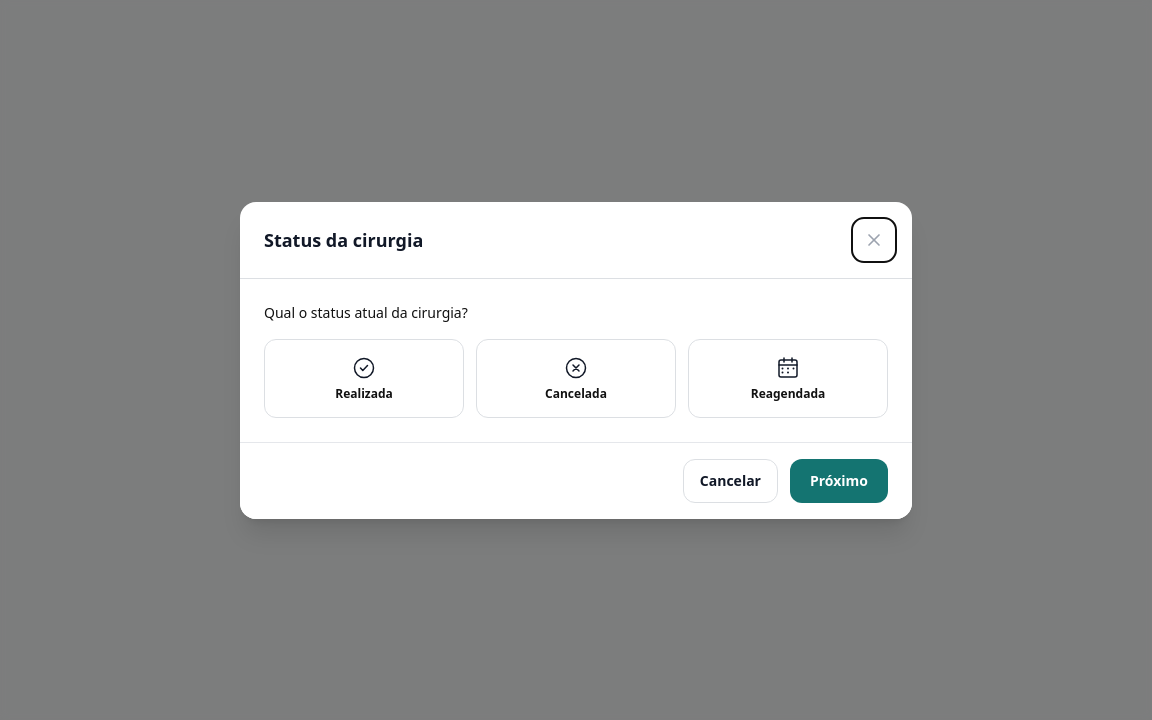
Scenario: SurgeryStatusModal › exige a nova data para reagendar
Click the button "Reagendada": [788, 378] box [688,338,888,418]
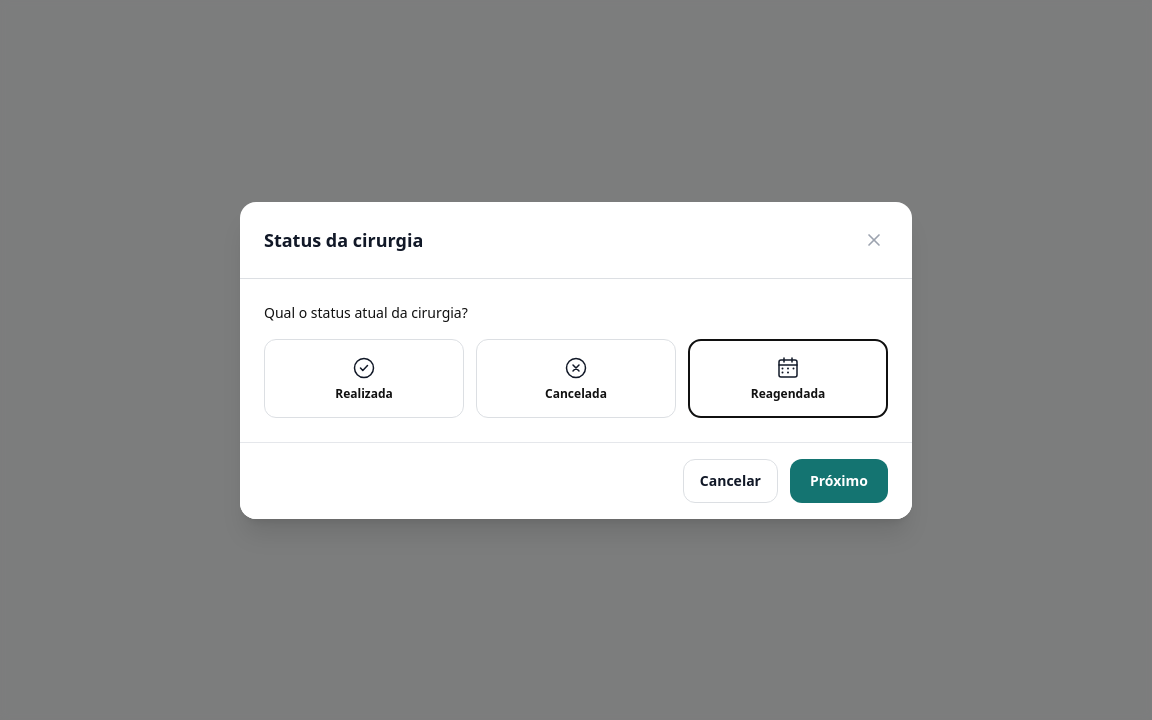
Click the button "Próximo": [839, 480] box [790,458,888,502]
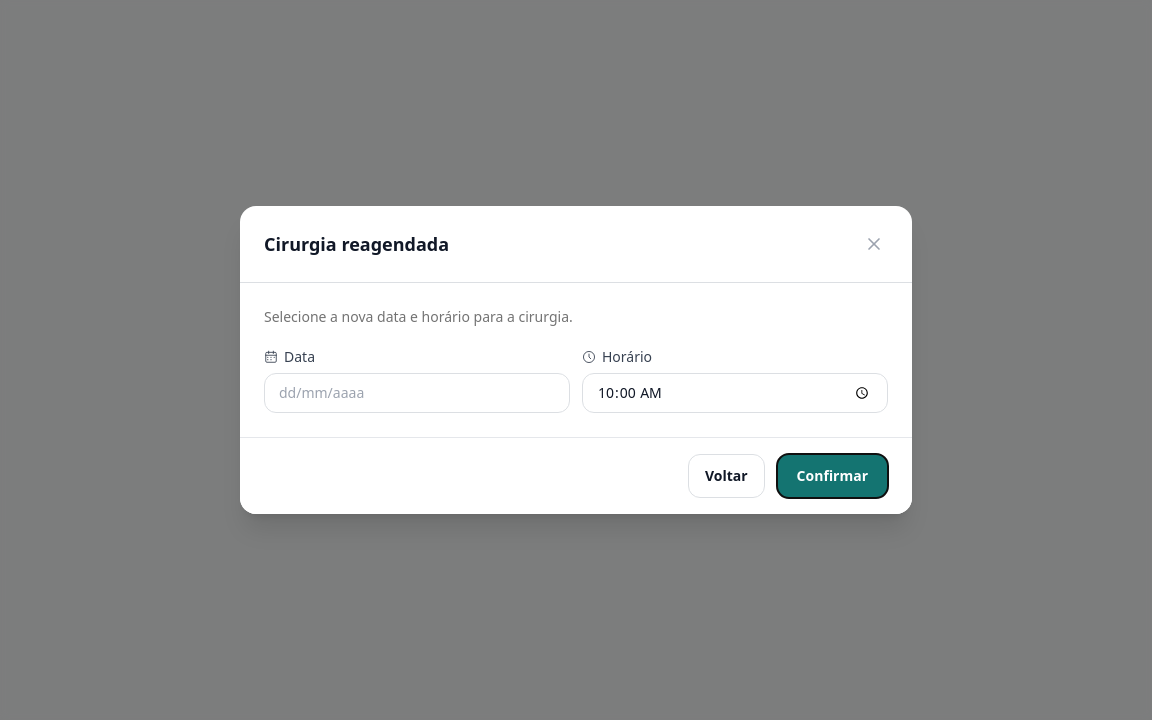
Click the button "Confirmar": [832, 476] box [777,454,888,498]
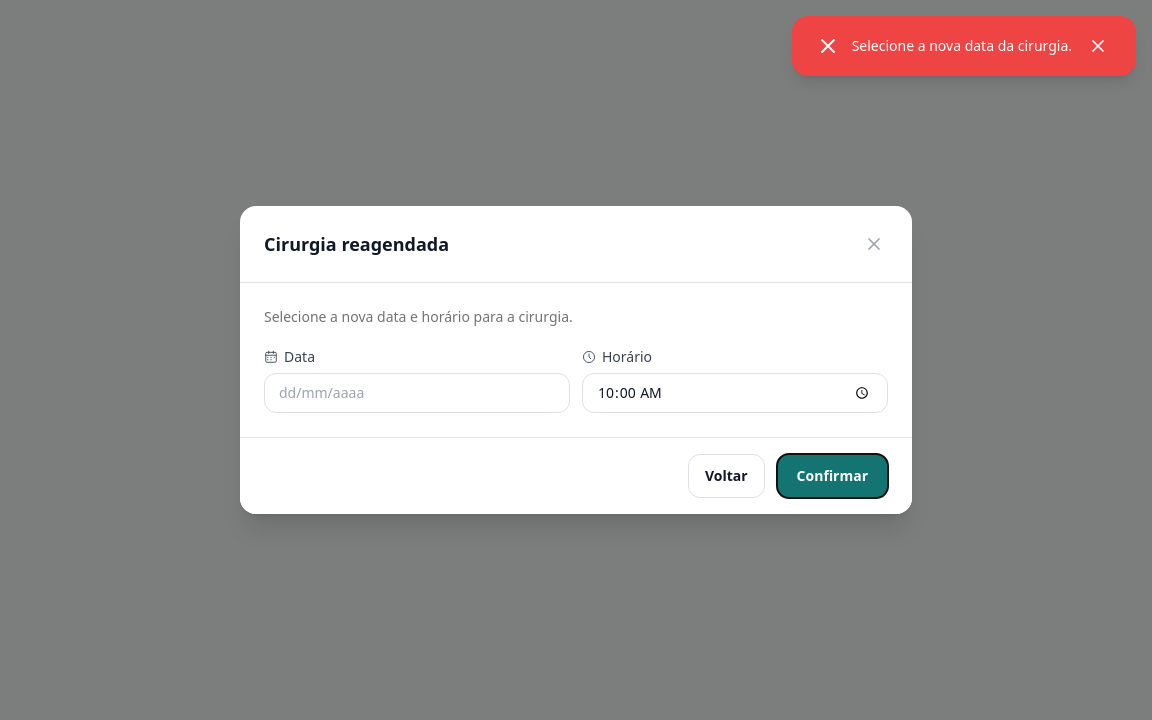
Expected: the text "Selecione a nova data da cirurgia." is shown, [852,36,1072,56]
